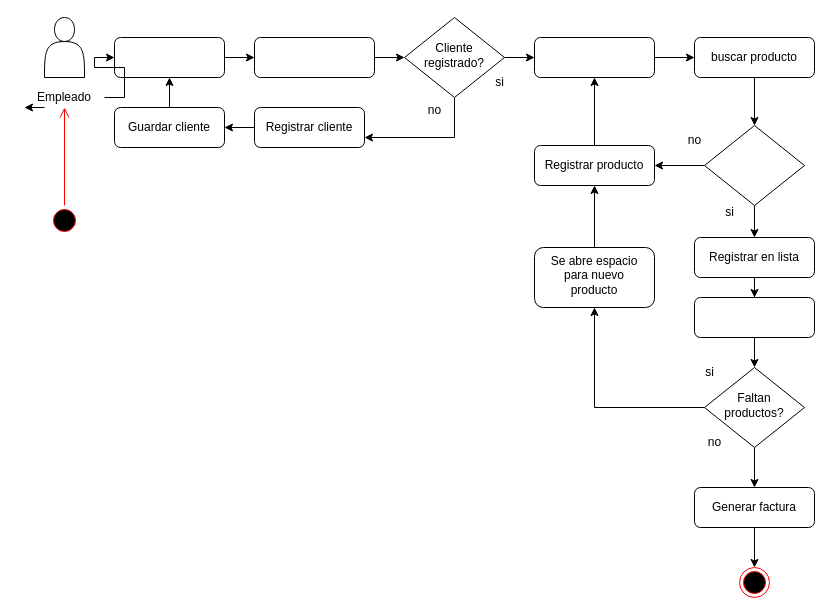
Image size: 832x615. Some labels were removed from this diagram. The box of each missing label's shape, as (x1, y1, x2, y2) in pixels:
buscar cliente: (254, 36, 374, 78)
Buscar datos del cliente y productos: (694, 296, 814, 338)
Ingresar cliente: (114, 36, 224, 78)
Ingresar producto: (534, 36, 654, 78)
Producto existe: (704, 124, 804, 206)
